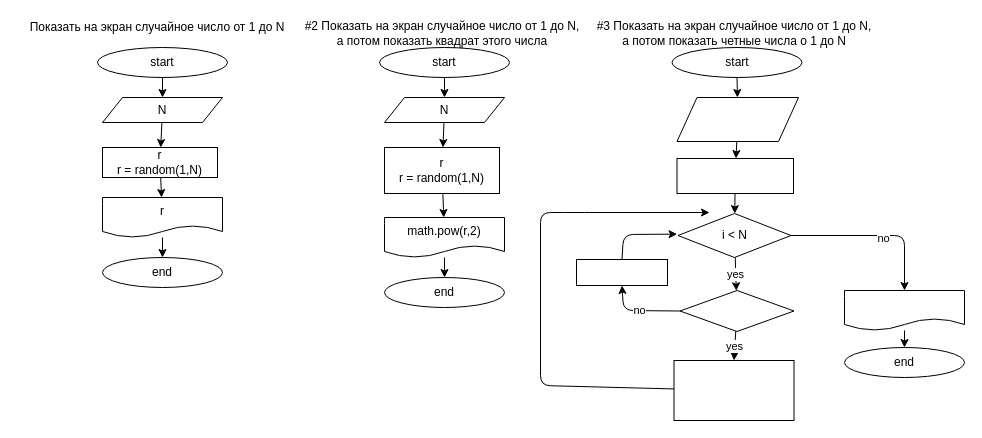
This 982x438 diagram has some shape labels left out. Each missing label, with the centre of its shape:
"i % 2 == 0" goes at pixel 736 311.
"i++" goes at pixel 622 272.
"mas[ j ] = i i++ j++" goes at pixel 733 390.
"N i = 1, j = 0 mas [ ]" goes at pixel 737 119.
"r mas[ ]" goes at pixel 904 310.
"r, r = random(1,N)" goes at pixel 735 176.
